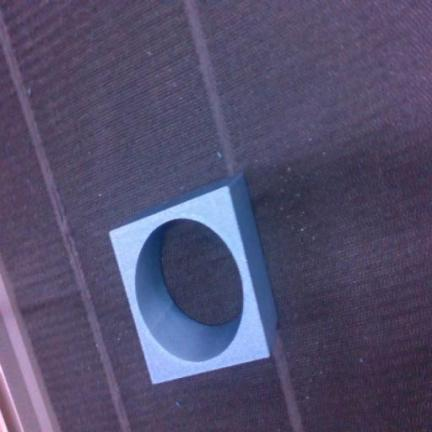square: (110, 175, 276, 383)
